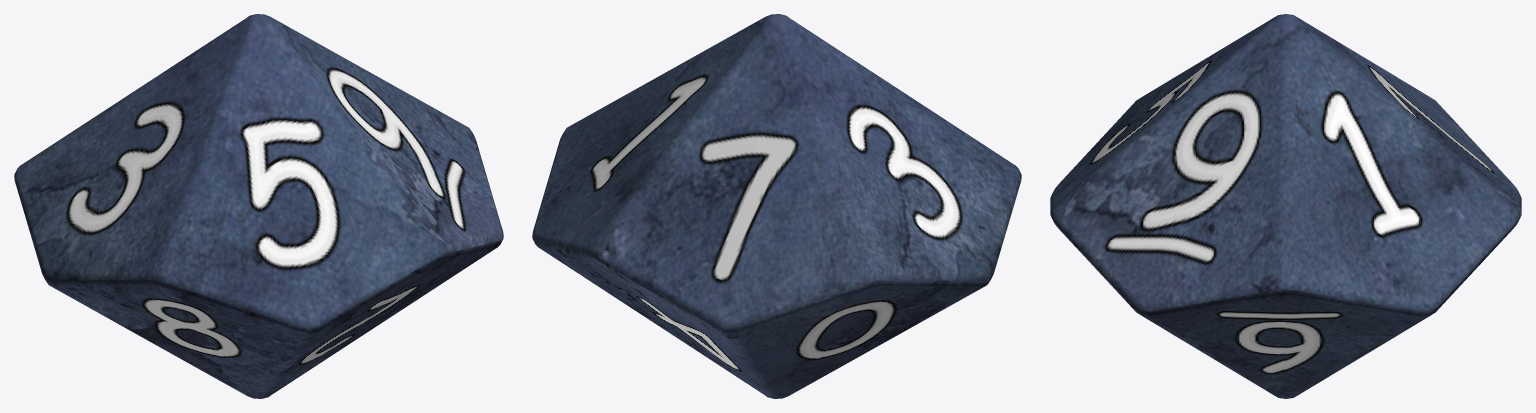
3 renders of one model, left to right at view 1: azimuth 30°, elevation 25°; view 2: azimuth 150°, elevation 25°; view 3: azimuth 270°, elevation 25°, orthographic.
Visible parts, largest first — view 1: d00_smooth; view 2: d00_smooth; view 3: d00_smooth.
Boxes of the visible parts, left/top/right/bottom form: d00_smooth: left=14, top=14, right=503, bottom=398; d00_smooth: left=532, top=14, right=1021, bottom=398; d00_smooth: left=1050, top=14, right=1521, bottom=398.
Size of the model in its own units: 7.64 by 6.59 by 7.32.
1 material, 1 textured.
